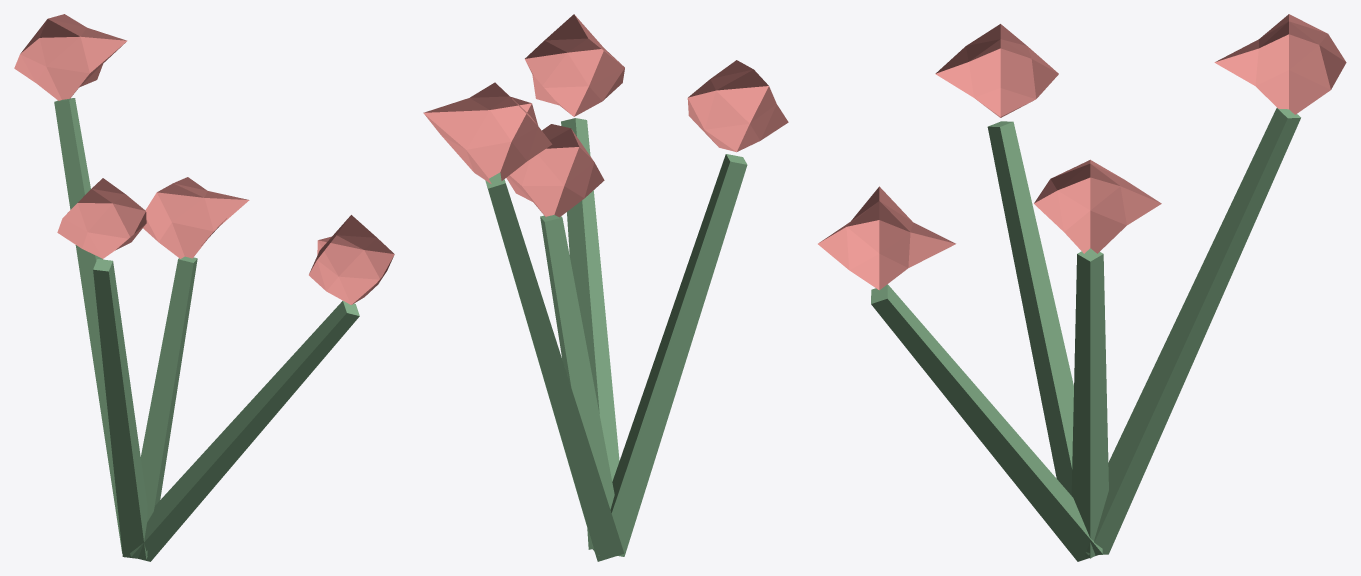
The model's file is flower_v46.glb.
3 views of the same model, side by side, from view 1: azimuth 30°, elevation 25°; view 2: azimuth 150°, elevation 25°; view 3: azimuth 270°, elevation 25° (orthographic). The views are drawn at different scales.
Visible parts, largest first — view 1: lod0; view 2: lod0; view 3: lod0.
Boxes of the visible parts, left/top/right/bottom form: lod0: left=14, top=14, right=394, bottom=561; lod0: left=423, top=14, right=788, bottom=561; lod0: left=818, top=14, right=1346, bottom=561.
Size of what is drawn, in the model's own units: 0.3415 by 0.5492 by 0.4777.
